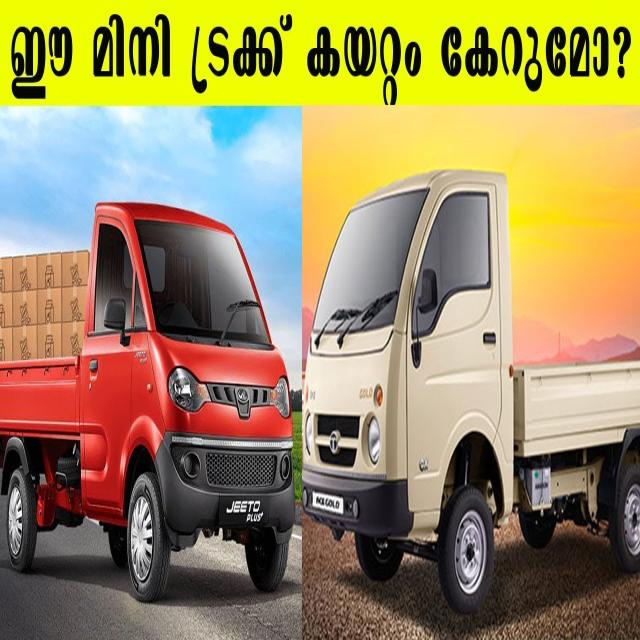truck: (302, 171, 640, 612), (0, 202, 295, 599)
